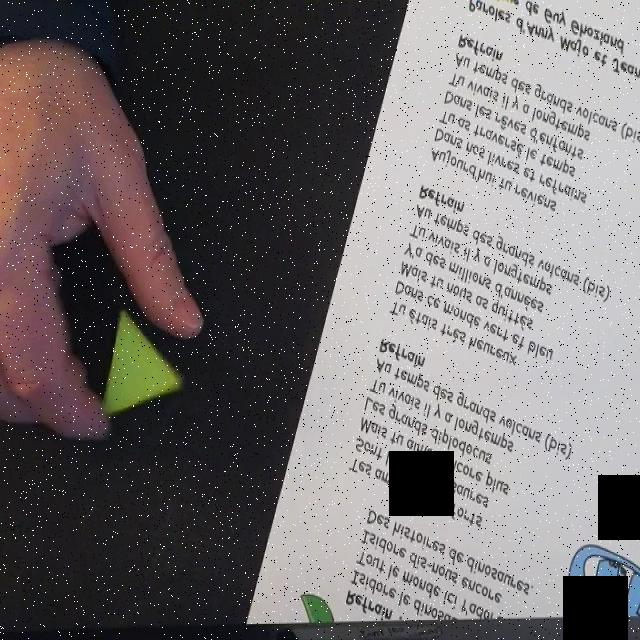triangle: (98, 309, 184, 419)
